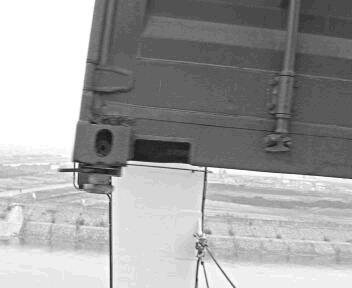twist_lock_1: (71, 158, 126, 197)
